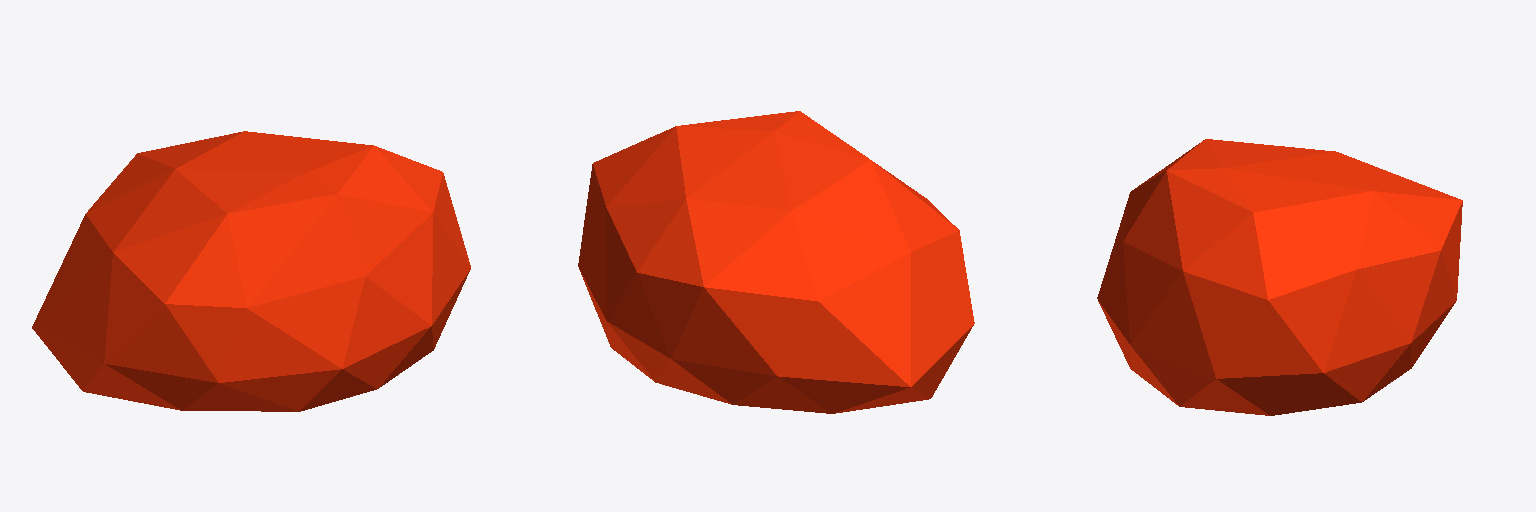
Rendered from Rock.obj.
3 renders of one model, left to right at view 1: azimuth 30°, elevation 25°; view 2: azimuth 150°, elevation 25°; view 3: azimuth 270°, elevation 25°, orthographic.
Visible parts, largest first — view 1: caillou1_Icosphere; view 2: caillou1_Icosphere; view 3: caillou1_Icosphere.
Part boxes in pixels (bbox=[...]): caillou1_Icosphere: bbox=[32, 131, 470, 411]; caillou1_Icosphere: bbox=[578, 111, 974, 413]; caillou1_Icosphere: bbox=[1097, 139, 1462, 415].
Size of the model in its own units: 5.68 by 2.92 by 4.91.